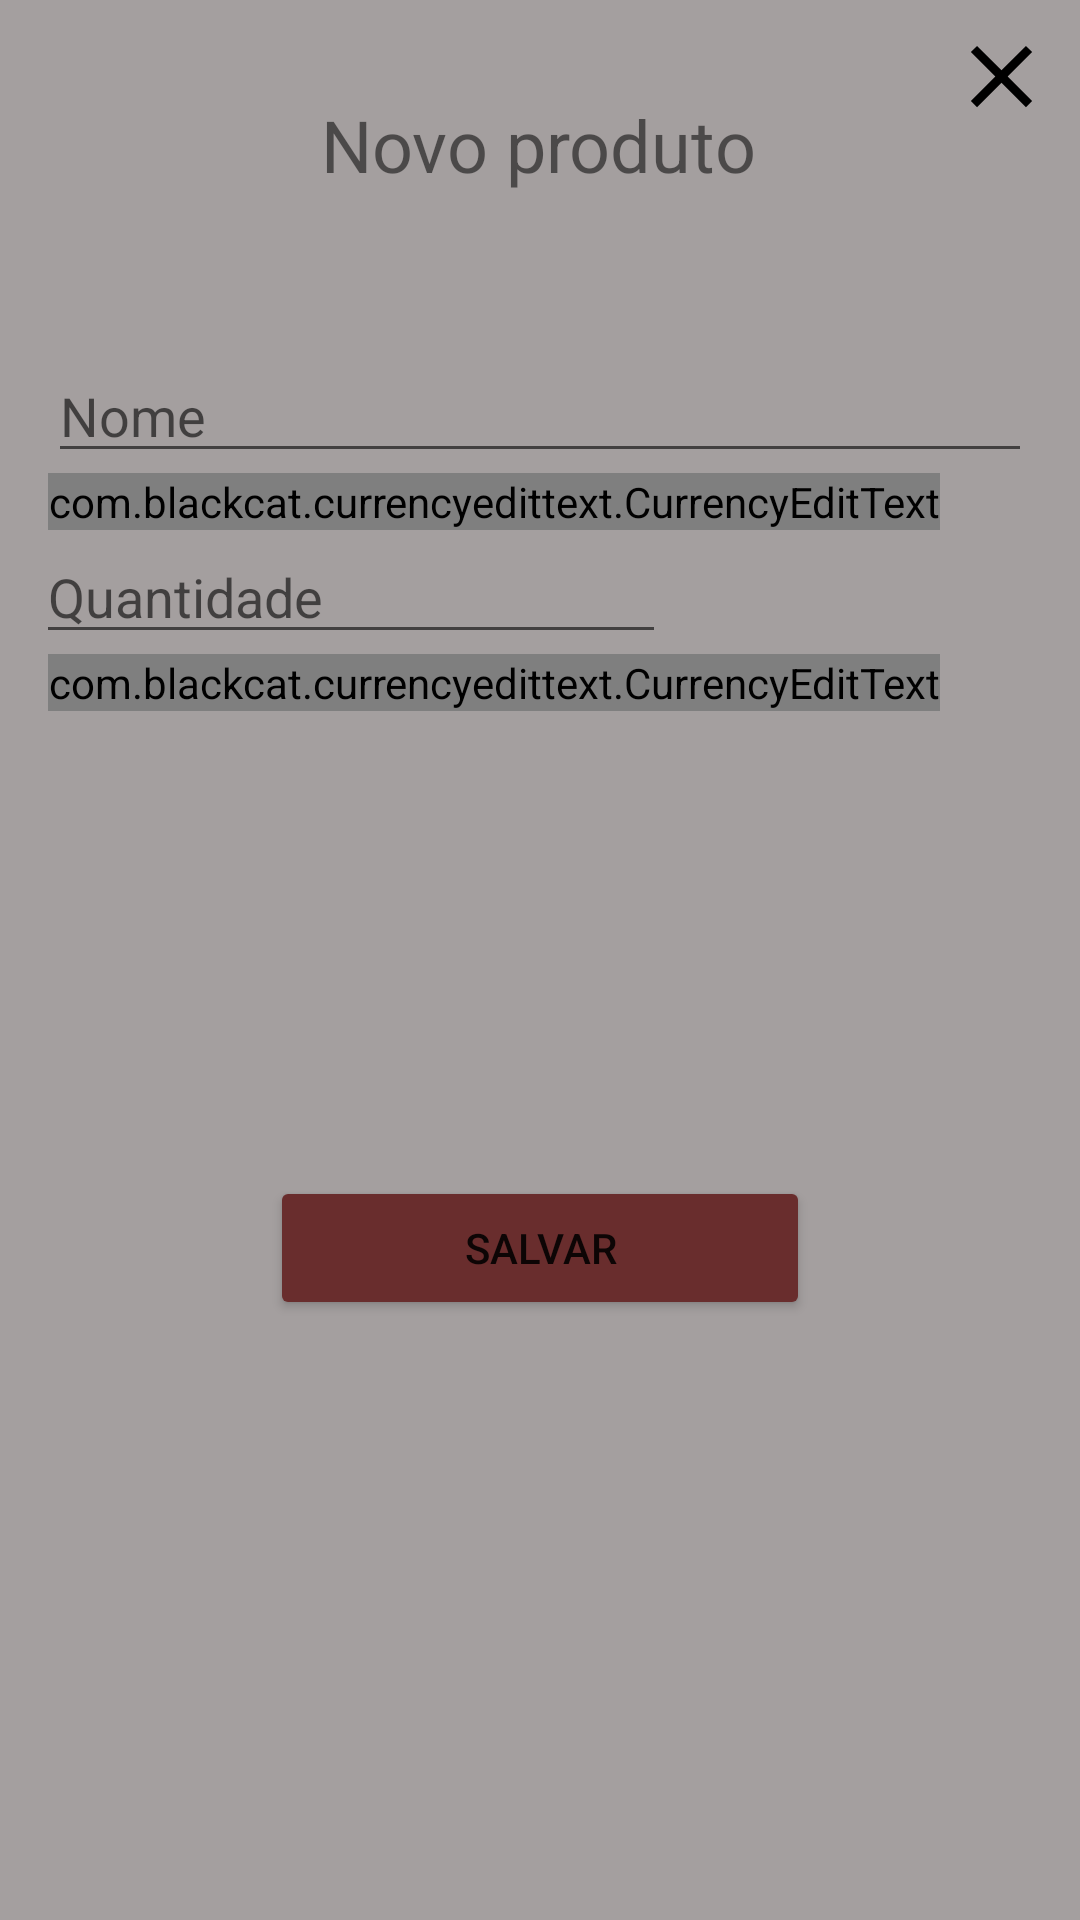

Named icons in this screenshot (1080px x 1920px) and their centers, [x,y]:
close: [1001,76]
